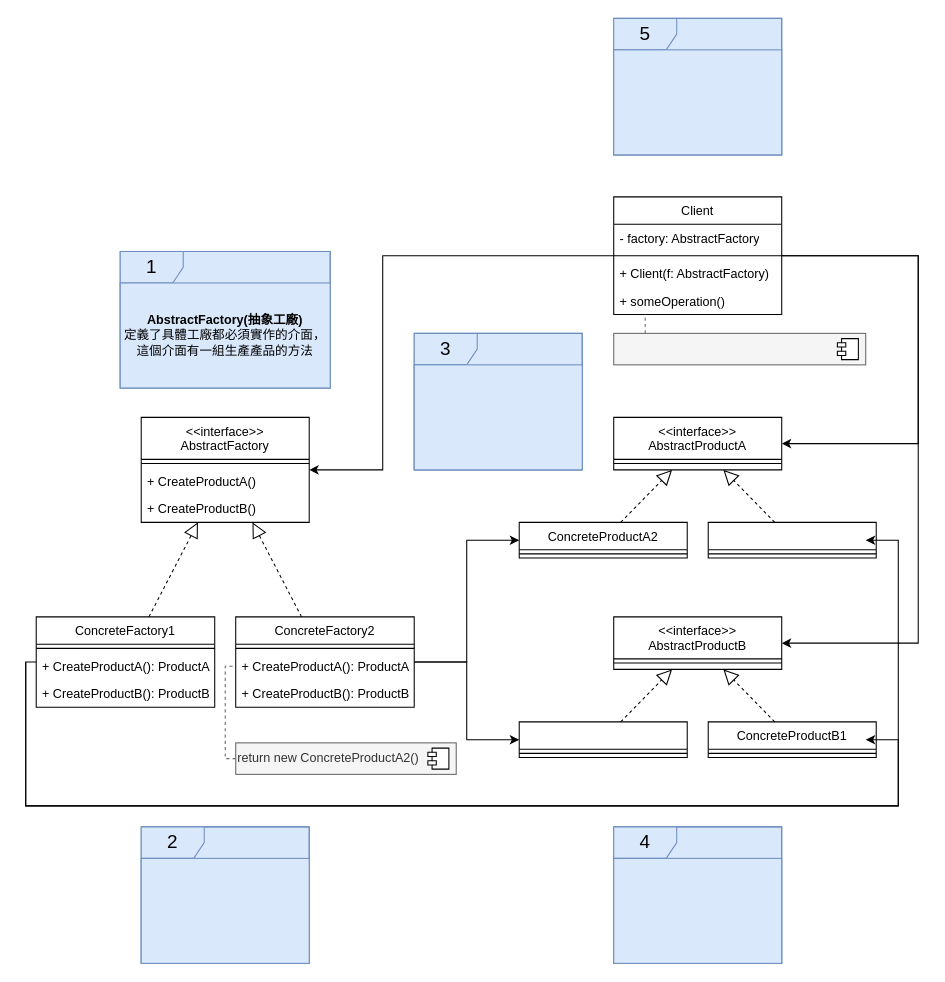
Image size: 945x982. Some labels were removed from this diagram. Each missing label, with the centre of its shape:
"AbstractProduct (抽象產品) 這是產品家族 每一個具體工廠都可以生產 一整組的產品" belongs at [497,417].
"Client (客戶端) 針對抽象工廠撰寫，在執行期與實際的工廠結合 即使具體工廠會對產品進行初始化，但建構方法必須回傳相應的抽象產品" belongs at [697,102].
"Concrete ProductA1" belongs at [791,539].
"Concrete ProductB2" belongs at [602,739].
"ConcreteFactory (具體工廠) 實作各種不同的產品家族 為了建立產品，用戶端會使用其中的一個工廠，所以它 絕對不需要實例化產品物件" belongs at [224,910].
"ConcreteProduct (具體產品) 抽象產品的多種不同類型實現 所有風格都必須實現相應的抽象產品" belongs at [697,910].
"ProductA pa = factory.createProductA()" belongs at [739,348].
